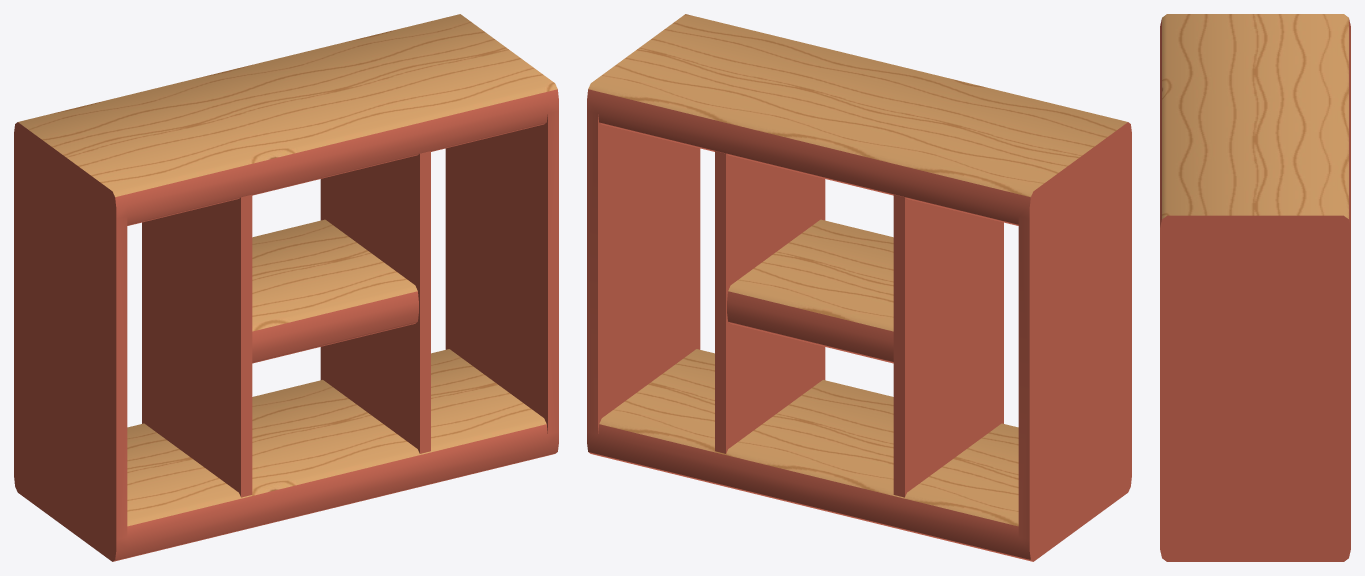
File: upper_b.glb
The picture shows the model from 3 angles, left to right: view 1: azimuth 30°, elevation 25°; view 2: azimuth 150°, elevation 25°; view 3: azimuth 270°, elevation 25°; orthographic projection. The views are drawn at different scales.
Visible parts, largest first — view 1: body; view 2: body; view 3: body.
Boxes of the visible parts, left/top/right/bottom form: body: left=14, top=14, right=558, bottom=561; body: left=587, top=14, right=1131, bottom=561; body: left=1160, top=14, right=1350, bottom=561.
Size of the model in its own units: 0.9 by 0.72 by 0.36.
2 materials, 1 textured.
